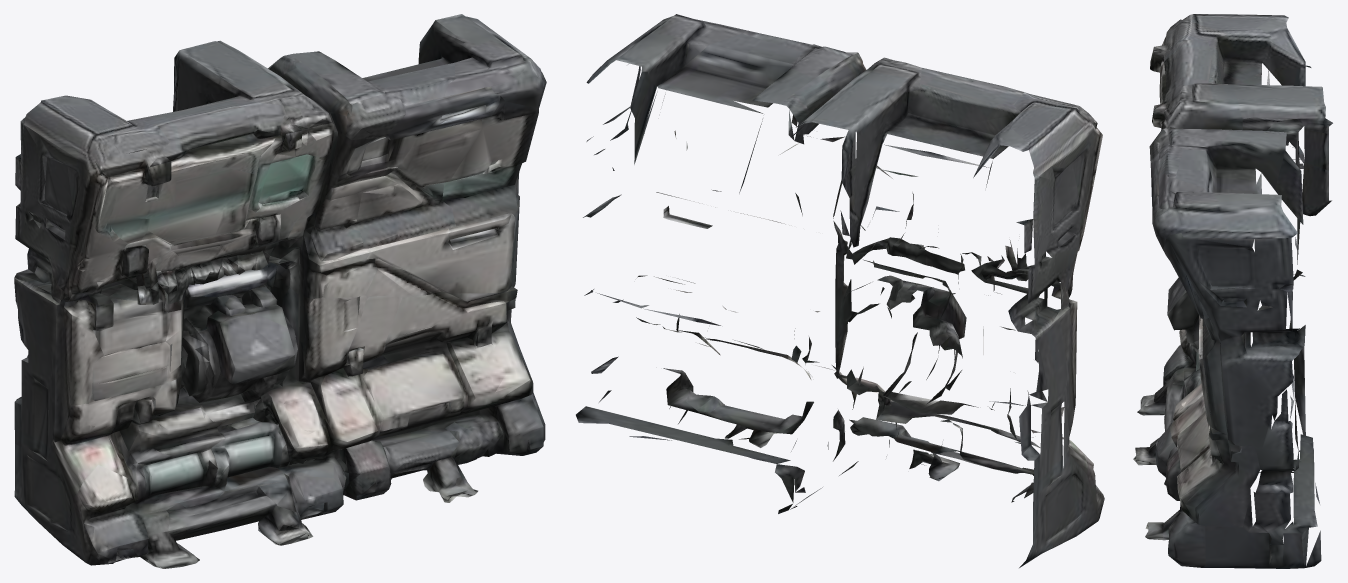
File: hangar_panel_c.glb
3 renders of one model, left to right at view 1: azimuth 30°, elevation 25°; view 2: azimuth 150°, elevation 25°; view 3: azimuth 270°, elevation 25°, orthographic. The views are drawn at different scales.
Parts seen in each view (by area): view 1: hangar_panel_c; view 2: hangar_panel_c; view 3: hangar_panel_c.
Boxes of the visible parts, x1=… form: hangar_panel_c: x1=14, y1=14, x2=546, y2=568; hangar_panel_c: x1=576, y1=14, x2=1104, y2=567; hangar_panel_c: x1=1133, y1=14, x2=1332, y2=568.
Size of the model in its own units: 0.3563 by 0.3123 by 0.1515.
1 material, 1 textured.
